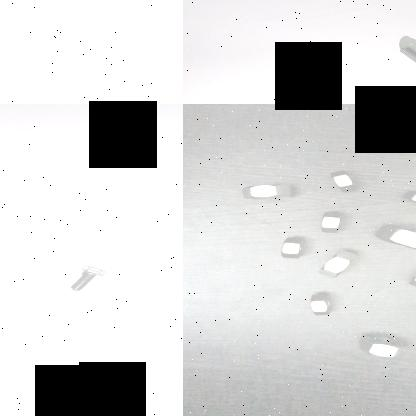Bolts: (58, 262, 112, 298), (393, 42, 416, 75)
NUTS: (317, 245, 365, 280), (358, 335, 414, 365), (370, 221, 416, 253), (231, 183, 295, 201), (296, 290, 335, 316), (324, 168, 364, 192), (273, 235, 309, 261), (314, 210, 342, 238), (401, 263, 416, 291), (403, 188, 416, 210)
